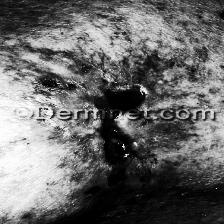Potentially Malignant Skin Tumors: (100, 137, 160, 195), (82, 77, 148, 103)
